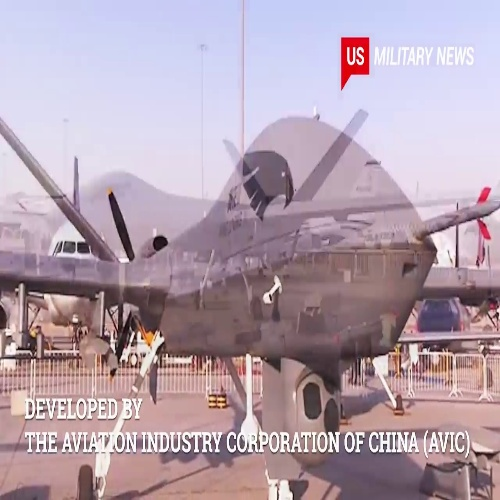uav: (1, 114, 498, 424)
